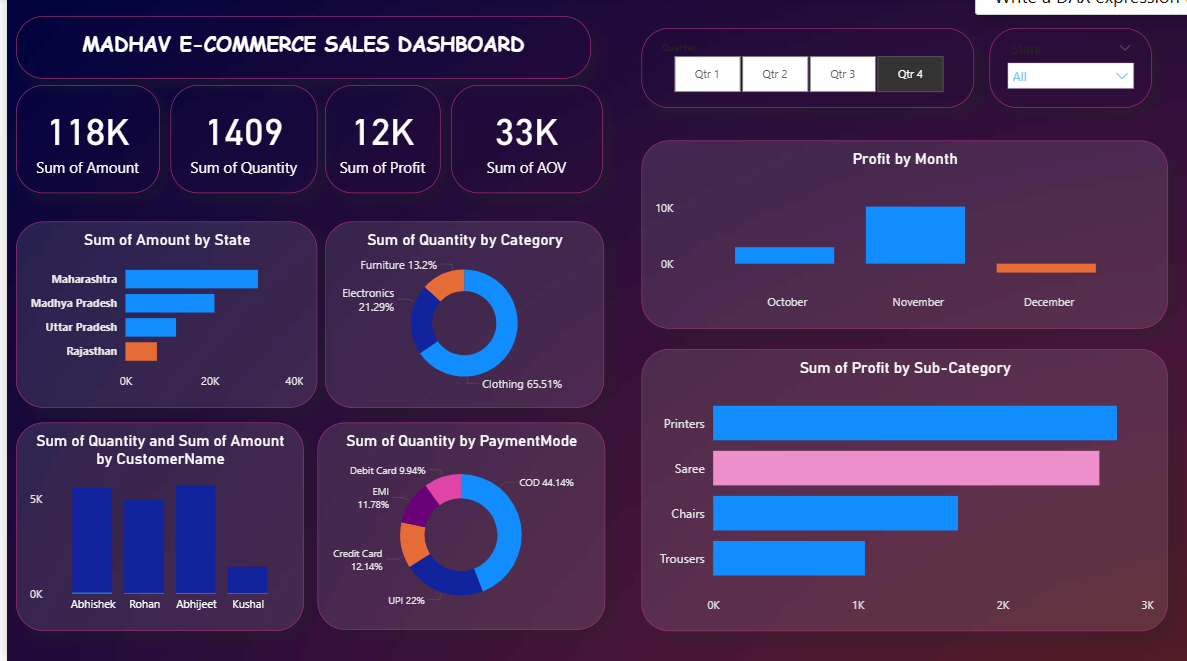

What the dashboard file says about the page in this screenshot:
{"tool":"powerbi","page":{"name":"Page 1","canvas":[1280,720],"ordinal":0},"visuals":[{"type":"textbox","box":[9.4,18.9,623.6,68],"z":0},{"type":"columnChart","title":"Profit by Month","fields":{"Category":["Orders.Order Date.Variation.Date Hierarchy.Month"],"Y":["Sum(Details.Profit)"]},"box":[687.9,155,570.7,204.1],"z":1000},{"type":"barChart","fields":{"Category":["Details.Sub-Category"],"Y":["Sum(Details.Profit)"]},"box":[687.9,379.8,570.7,306.1],"z":2000},{"type":"donutChart","fields":{"Category":["Details.Category"],"Y":["Sum(Details.Quantity)"]},"box":[344.8,242.4,302.5,201.7],"z":3000},{"type":"donutChart","fields":{"Y":["Sum(Details.Quantity)"],"Category":["Details.PaymentMode"]},"box":[336.4,461.1,311.8,224.9],"z":4000},{"type":"card","fields":{"Values":["Sum(Details.Amount)"]},"box":[9.8,94.3,156.1,117.1],"z":4002},{"type":"card","fields":{"Values":["Sum(Details.Quantity)"]},"box":[177.3,94.3,159.4,117.1],"z":4003},{"type":"card","fields":{"Values":["Sum(Details.Profit)"]},"box":[344.8,94.3,125.2,117.1],"z":4004},{"type":"card","fields":{"Values":["Sum(Details.AOV)"]},"box":[481.9,94.5,164.4,117.2],"z":4005},{"type":"barChart","fields":{"Category":["Orders.State"],"Y":["Sum(Details.Amount)"]},"box":[9.8,242.4,326.9,201.7],"z":4006},{"type":"columnChart","fields":{"Category":["Orders.CustomerName"],"Y":["Sum(Details.Quantity)","Sum(Details.Amount)"]},"box":[10,460,312,226],"z":4007},{"type":"slicer","fields":{"Values":["Orders.Order Date.Variation.Date Hierarchy.Quarter"]},"box":[687.9,32.1,360.9,86.9],"z":4008},{"type":"slicer","fields":{"Values":["Orders.State"]},"box":[1065.8,32.1,175.7,86.9],"z":4009}]}

Visuals, with their boxes in screenshot pixels (x1, y1, x2, y2), scaled from the page's 1280x720 canvas onto the 1187x661 screenshot:
textbox: <box>9,17,587,80</box>
"Profit by Month" columnChart: <box>638,142,1167,330</box>
barChart - Details.Sub-Category x Sum(Details.Profit): <box>638,349,1167,630</box>
donutChart - Details.Category x Sum(Details.Quantity): <box>320,223,600,408</box>
donutChart - Sum(Details.Quantity) x Details.PaymentMode: <box>312,423,601,630</box>
card - Sum(Details.Amount): <box>9,87,154,194</box>
card - Sum(Details.Quantity): <box>164,87,312,194</box>
card - Sum(Details.Profit): <box>320,87,436,194</box>
card - Sum(Details.AOV): <box>447,87,599,194</box>
barChart - Orders.State x Sum(Details.Amount): <box>9,223,312,408</box>
columnChart - Orders.CustomerName x Sum(Details.Quantity): <box>9,422,299,630</box>
slicer - Orders.Order Date.Variation.Date Hierarchy.Quarter: <box>638,29,973,109</box>
slicer - Orders.State: <box>988,29,1151,109</box>
